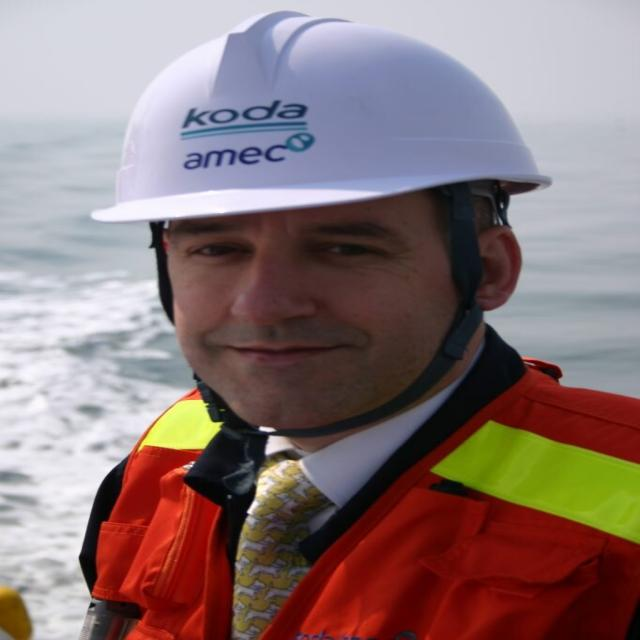illegal_helmet: (77, 0, 573, 446)
